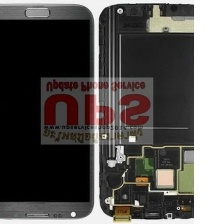phone: (96, 0, 224, 221), (0, 0, 95, 224)
